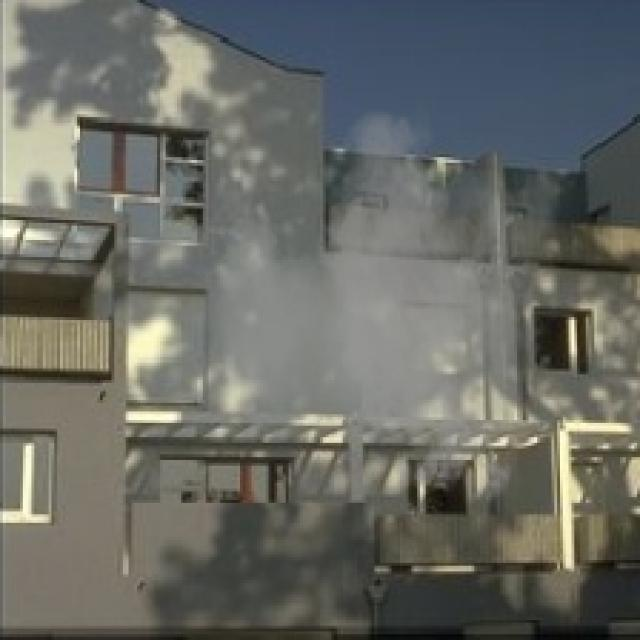Smoke: (200, 94, 560, 517)
